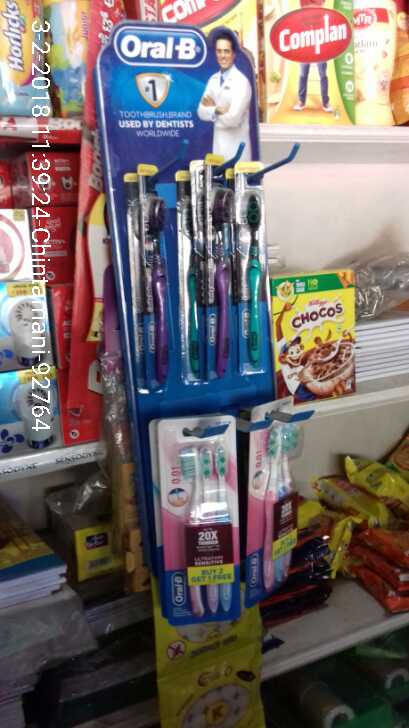oralb: (158, 406, 246, 630), (230, 150, 280, 386), (188, 156, 236, 389), (250, 393, 302, 602), (133, 159, 170, 394)
